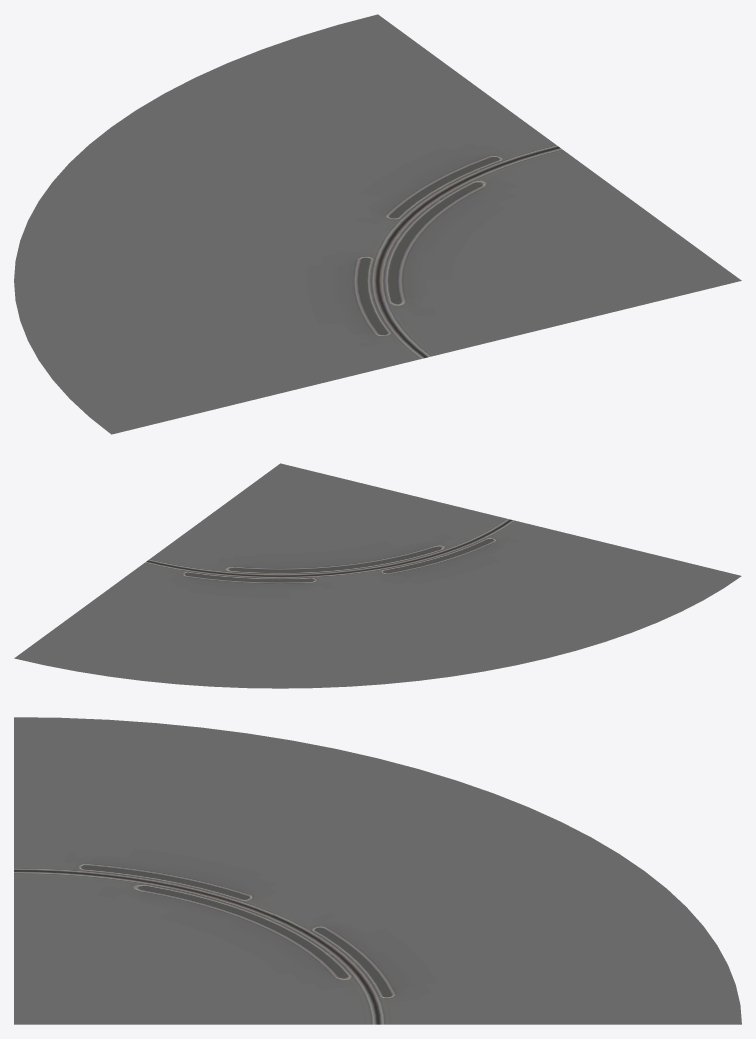
File: Platform_Squares_Curve.glb
3 views of the same model, one above another, from view 1: azimuth 30°, elevation 25°; view 2: azimuth 150°, elevation 25°; view 3: azimuth 270°, elevation 25° (orthographic). The views are drawn at different scales.
Parts seen in each view (by area): view 1: Platform_Squares_Curve; view 2: Platform_Squares_Curve; view 3: Platform_Squares_Curve.
Part boxes in pixels (x1,y1,x2,y2): Platform_Squares_Curve: [14, 14, 741, 434]; Platform_Squares_Curve: [14, 463, 741, 688]; Platform_Squares_Curve: [14, 717, 741, 1024].
Bounding box in the file's own units: 4 × 0 × 4.
1 material, 1 textured.
